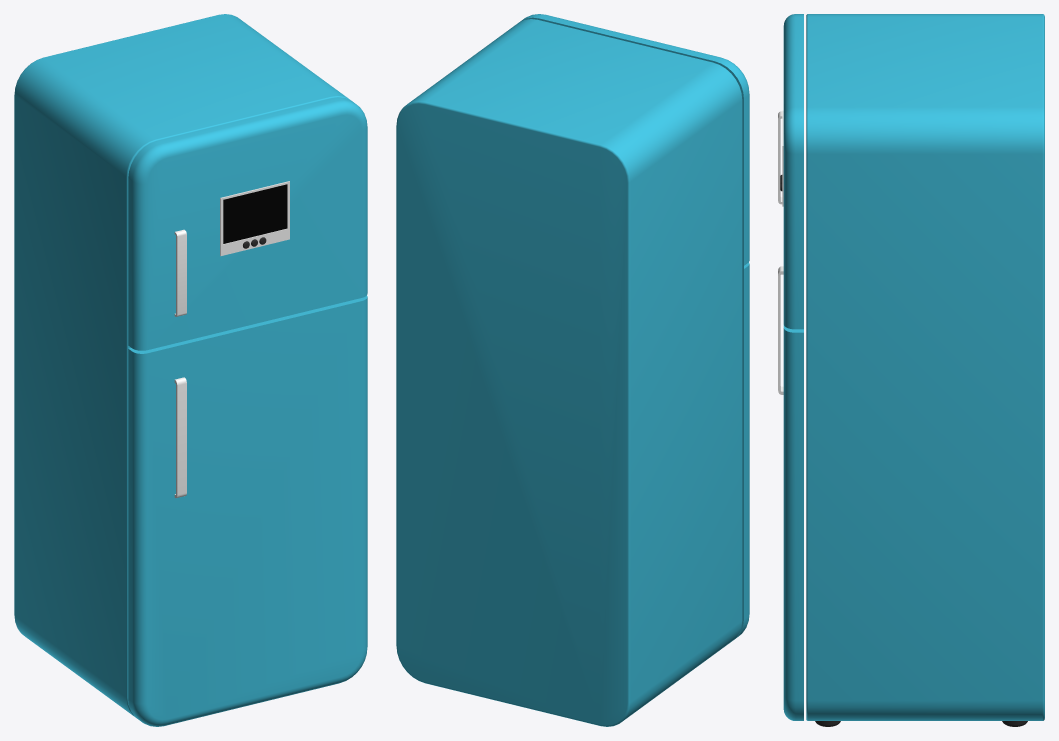
Rendered from Fridge.fbx.
The picture shows the model from 3 angles, left to right: view 1: azimuth 30°, elevation 25°; view 2: azimuth 150°, elevation 25°; view 3: azimuth 270°, elevation 25°; orthographic projection. The views are drawn at different scales.
Parts seen in each view (by area): view 1: Cube.001, Cube, Cube.003, Plane.002, Cube.002, Plane.003; view 2: Cube, Cube.001; view 3: Cube, Cube.001.
Boxes of the visible parts, <box> form: Cube.001: <box>128,97,367,726</box>; Cube: <box>14,14,349,717</box>; Cube.003: <box>223,184,287,243</box>; Plane.002: <box>174,377,186,498</box>; Cube.002: <box>220,181,289,255</box>; Plane.003: <box>174,229,186,316</box>; Cube: <box>396,19,742,726</box>; Cube.001: <box>520,14,749,639</box>; Cube: <box>806,14,1044,720</box>; Cube.001: <box>783,14,803,720</box>.
Size of the model in its own units: 111 by 266 by 104.
